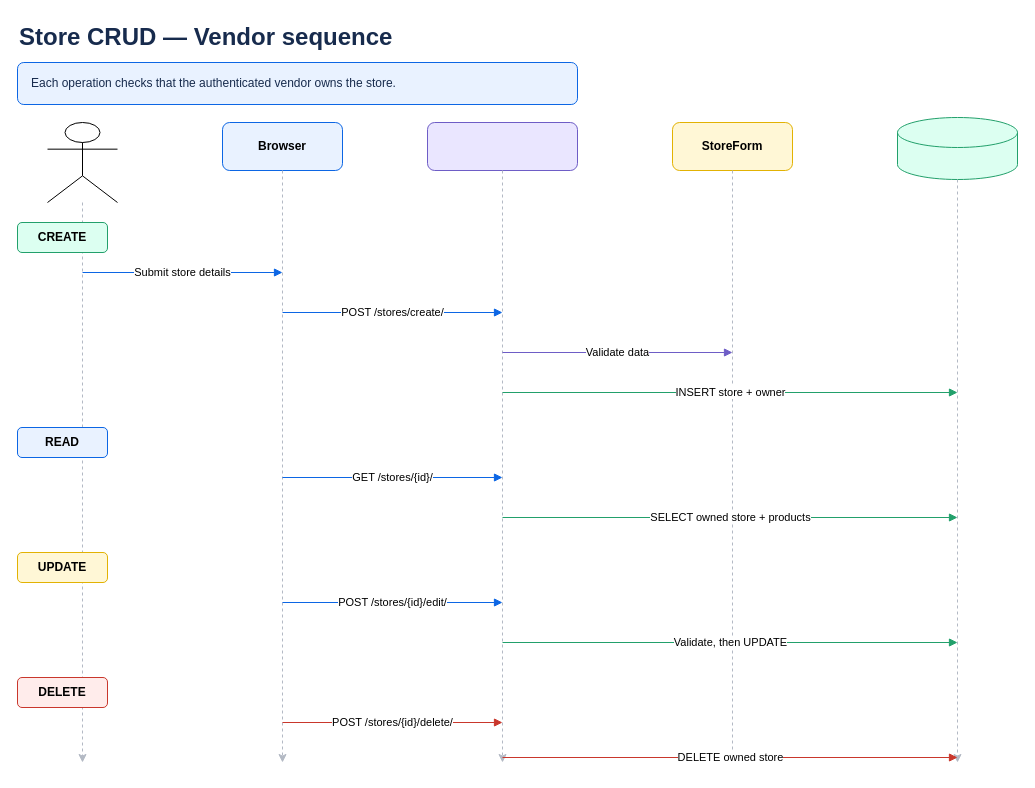
The diagram is 1035 pixels wide and 788 high, and some of its shapes have lost their labels. Here are the shapes that lost their labels. From the top down, the centre of each, then its label:
At point (82, 162): "Vendor".
At point (502, 146): "Django Store Views".
At point (957, 148): "MariaDB".
